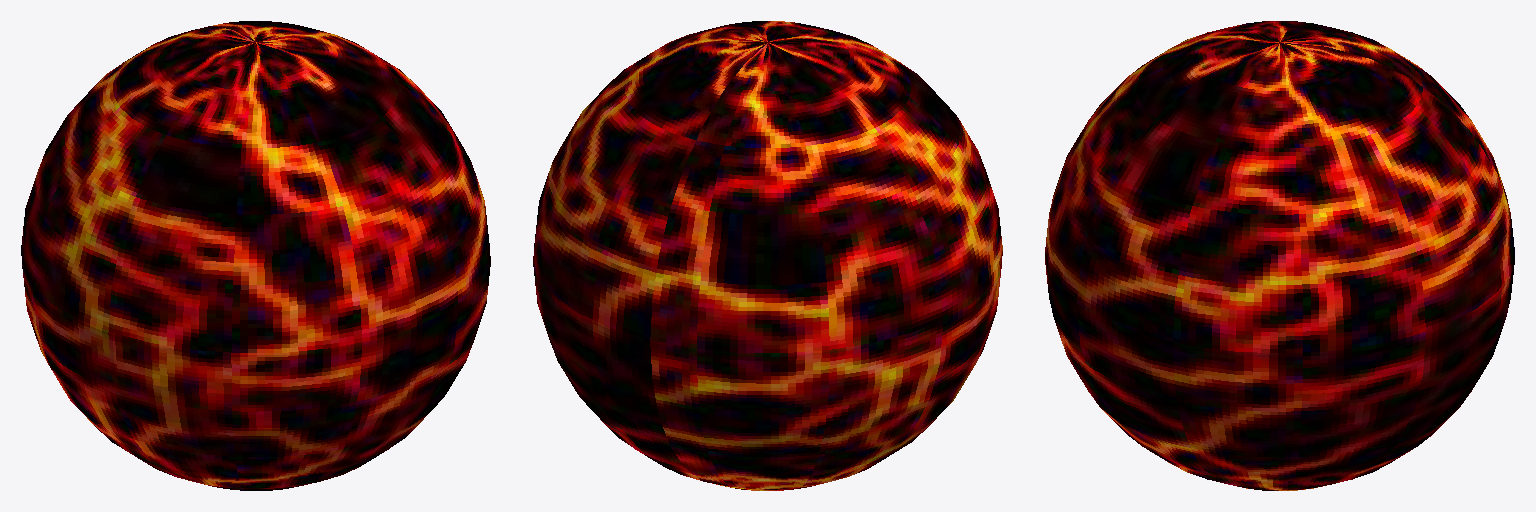
The picture shows the model from 3 angles: view 1: azimuth 30°, elevation 25°; view 2: azimuth 150°, elevation 25°; view 3: azimuth 270°, elevation 25°; orthographic projection.
Parts seen in each view (by area): view 1: Sphere001; view 2: Sphere001; view 3: Sphere001.
Part boxes in pixels (x1,y1,x2,y2): Sphere001: (21,21,490,490); Sphere001: (533,21,1002,490); Sphere001: (1045,21,1514,490).
Bounding box in the file's own units: 65.18 × 65.18 × 65.18.
1 materials, 1 textured.